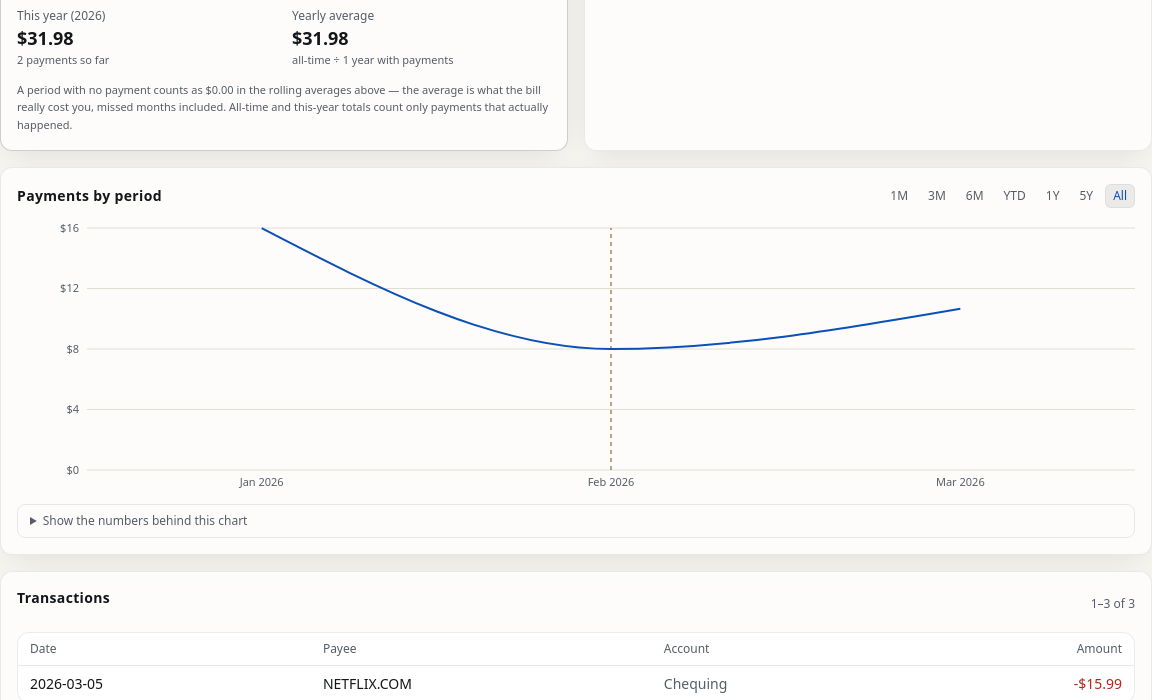
Test: bill detail (M116 B2) › renders the period chart with its data-table fallback, missed marker included
(page scrolled)
expect the picture named "Payments by period — monthly buckets, 2026-01-01 – 2026-03-0" is shown: met, box [17,220,1135,500]
What coordinates should you click on to do the following:
click the heading "Show the numbers behind this chart"
I would click on:
 (145, 521)
Its box is [43,512,247,529].
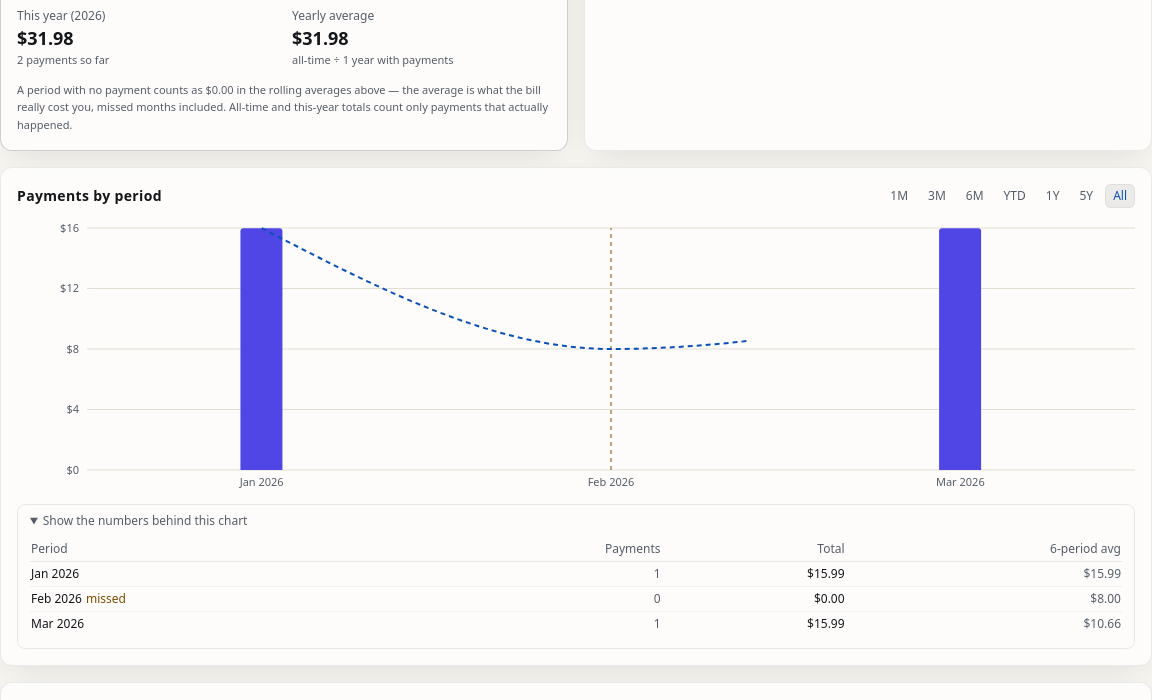
expect the text "missed" is shown: met, box [86,590,126,607]
expect the column heading "Feb 2026" is shown: met, box [31,590,82,607]
expect the column heading "Jan 2026" is shown: met, box [30,562,423,587]
